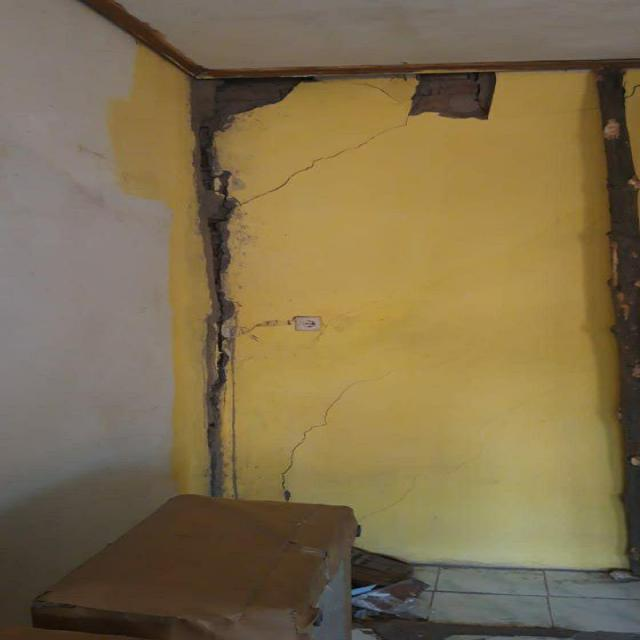crack: (185, 72, 322, 495), (405, 68, 505, 120)
